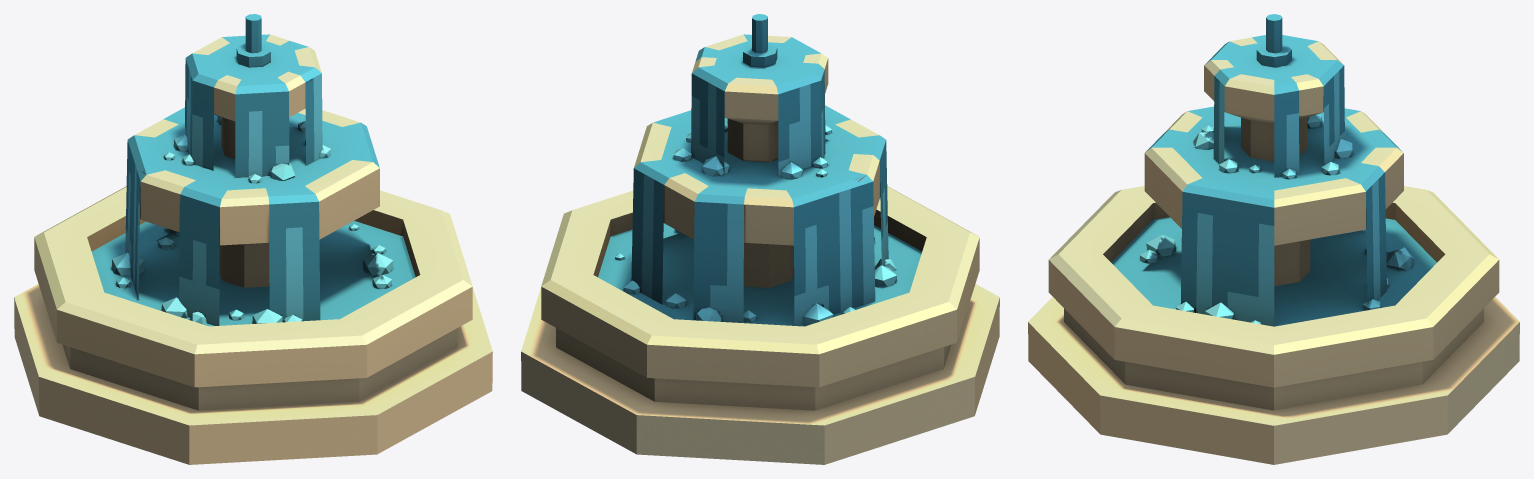
Rendered from fountain.glb.
The picture shows the model from 3 angles, left to right: view 1: azimuth 30°, elevation 25°; view 2: azimuth 150°, elevation 25°; view 3: azimuth 270°, elevation 25°; orthographic projection.
Visible parts, largest first — view 1: fountain; view 2: fountain; view 3: fountain.
Boxes of the visible parts, box(x1,y1,x2,y2) form: fountain: box(14, 14, 492, 464); fountain: box(521, 14, 999, 464); fountain: box(1028, 14, 1519, 464).
Size of the model in its own units: 1.99 by 1.53 by 1.99.
Materials: 1 (1 with a texture image).
